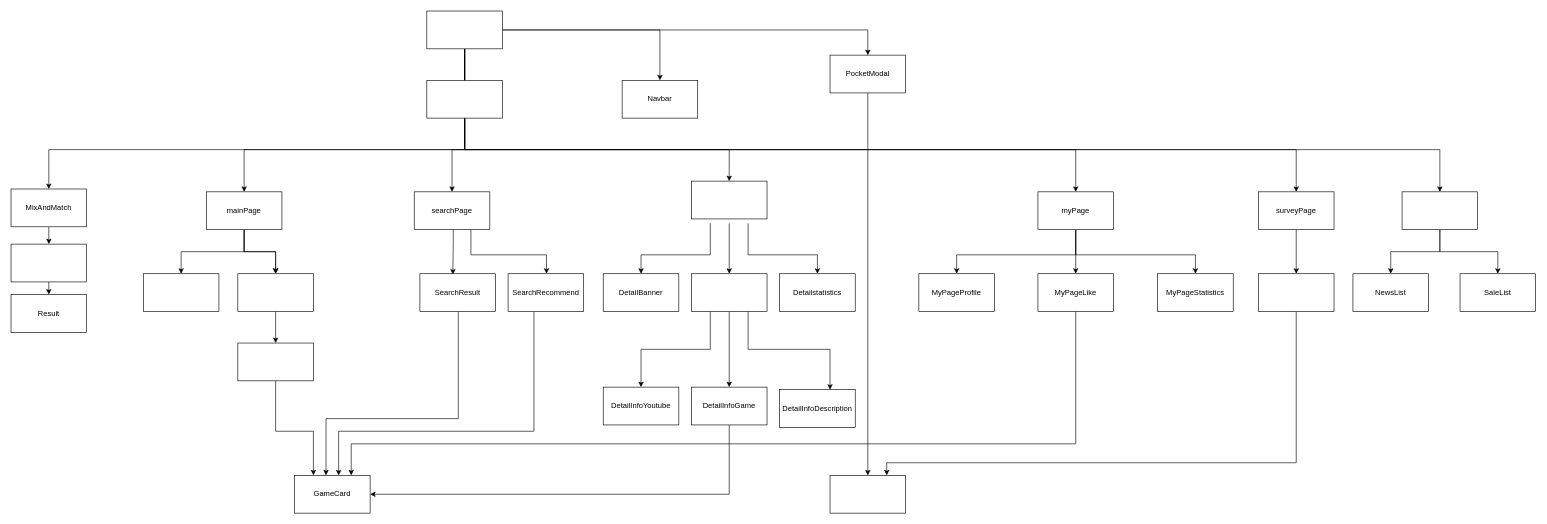
Some shapes in this 1547 by 524 pixel diagram are drawn without their labels. The box of each missing label's shape, as (x1, y1, x2, y2) in pixels:
APP: (426, 10, 502, 49)
DetailInfo: (691, 273, 767, 312)
detailPage: (691, 180, 767, 219)
Loading: (426, 80, 502, 118)
MainBanner: (143, 273, 219, 312)
MainGame: (237, 342, 313, 381)
MainSelect: (237, 273, 313, 312)
RelatedTagList: (10, 243, 87, 282)
SimpleGameCard: (829, 475, 906, 513)
SurveyGame: (1258, 273, 1334, 312)
topicPage: (1401, 191, 1478, 230)
